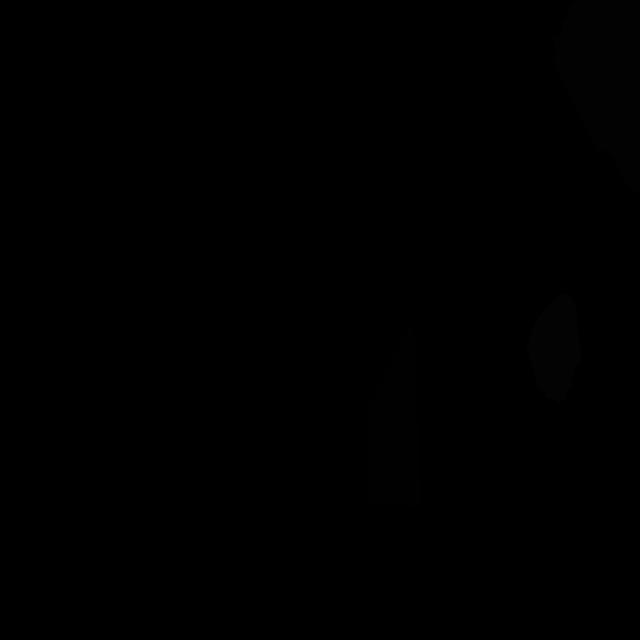cardboard: (551, 0, 640, 197)
metal: (526, 293, 581, 403)
rigid_plastic: (368, 324, 421, 509)
